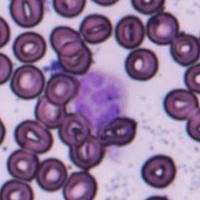N: (73, 70, 129, 132)
